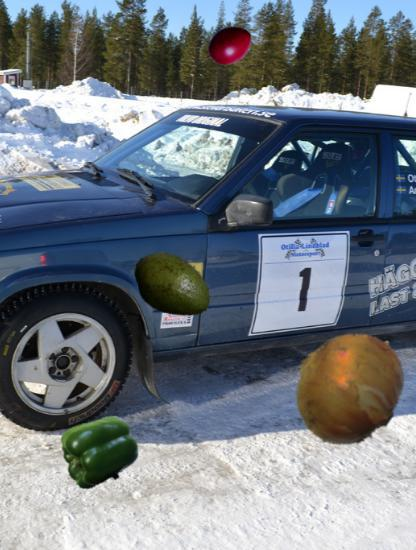Avocado: (130, 245, 214, 329)
Onion: (288, 327, 408, 447)
Pepper: (59, 411, 139, 491)
Tamarillo: (203, 22, 254, 73)
